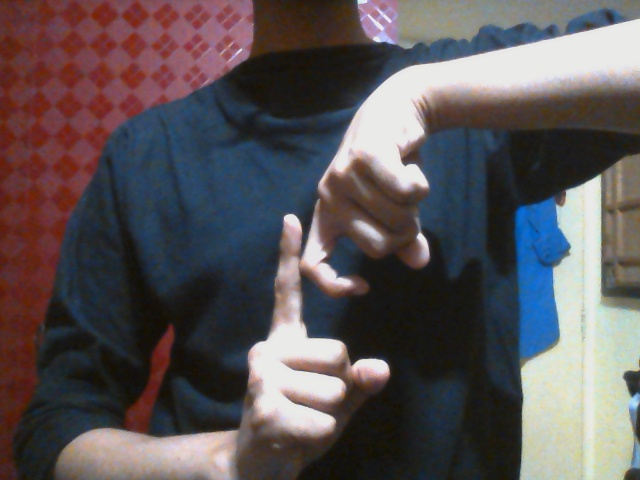K: (242, 149, 432, 457)
